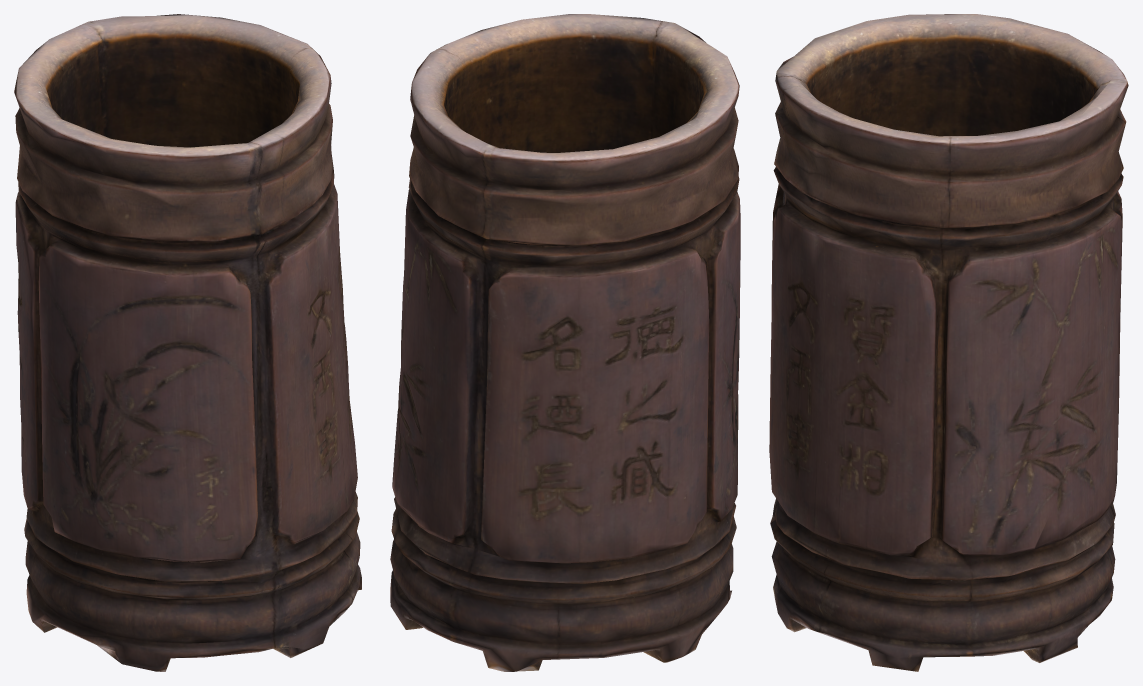
File: SM_Brush_Holder_Bamboo.fbx
3 renders of one model, left to right at view 1: azimuth 30°, elevation 25°; view 2: azimuth 150°, elevation 25°; view 3: azimuth 270°, elevation 25°, orthographic.
Visible parts, largest first — view 1: KCDF_2022_prop_Brush_Holder_with_Bamboo_Design_Mesh; view 2: KCDF_2022_prop_Brush_Holder_with_Bamboo_Design_Mesh; view 3: KCDF_2022_prop_Brush_Holder_with_Bamboo_Design_Mesh.
Boxes of the visible parts, <box> form: KCDF_2022_prop_Brush_Holder_with_Bamboo_Design_Mesh: <box>14,14,361,671</box>; KCDF_2022_prop_Brush_Holder_with_Bamboo_Design_Mesh: <box>390,14,740,671</box>; KCDF_2022_prop_Brush_Holder_with_Bamboo_Design_Mesh: <box>769,14,1128,671</box>.
Size of the model in its own units: 14.75 by 24.77 by 15.24.
1 material, 1 textured.
